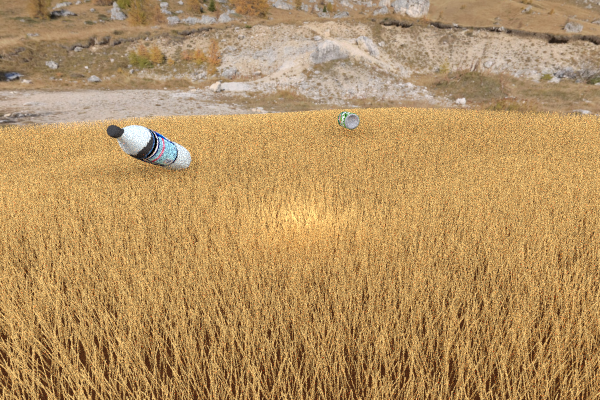bottle: (106, 125, 191, 171)
can: (337, 111, 359, 129)
